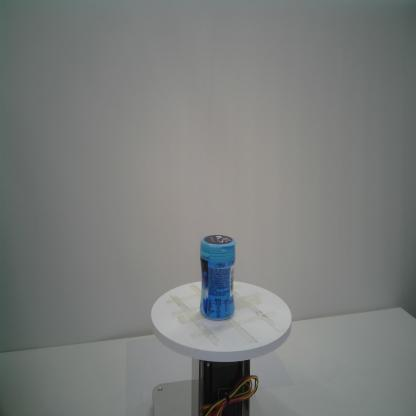Gum: (198, 233, 237, 322)
